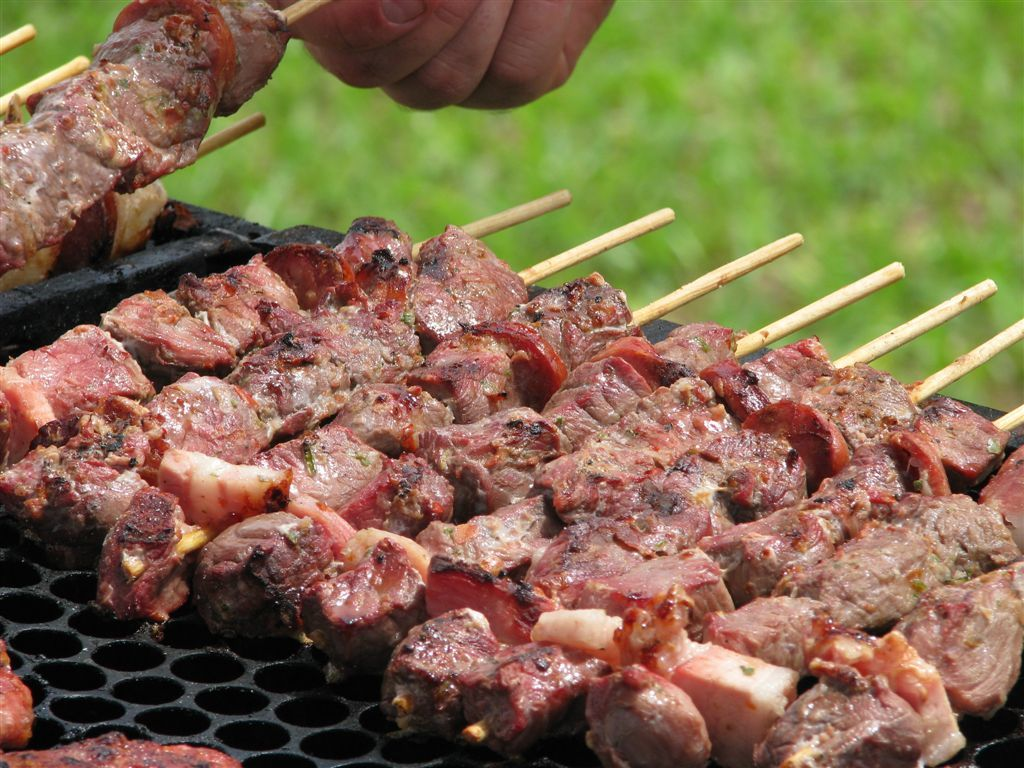person: (1, 0, 627, 448)
